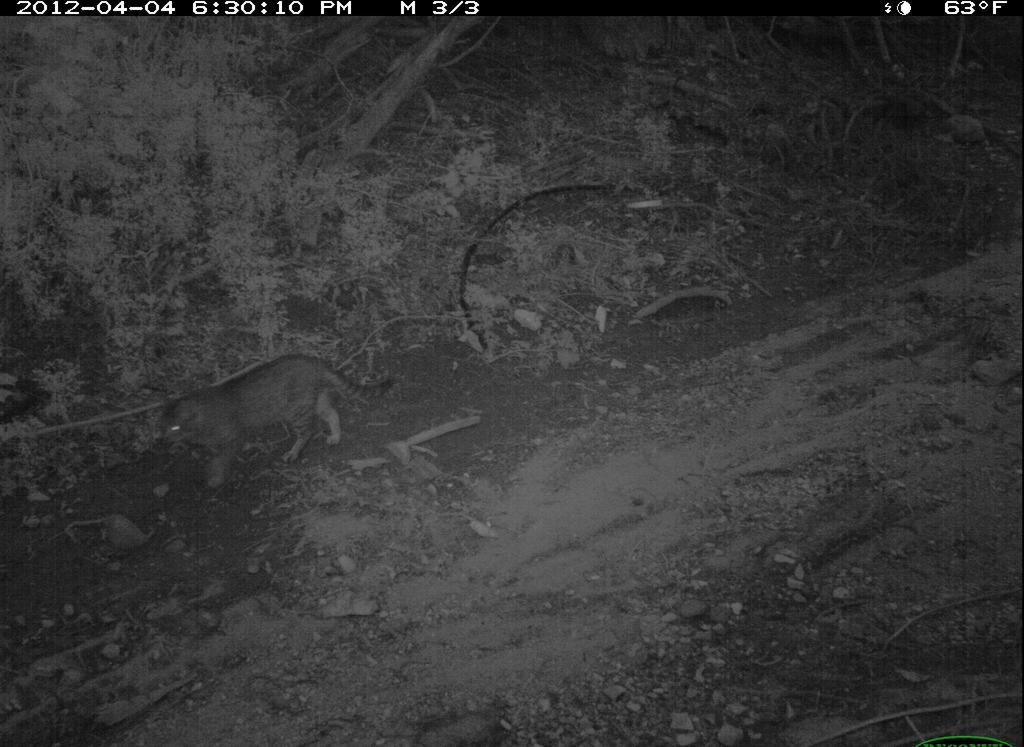cat: (154, 353, 359, 481)
